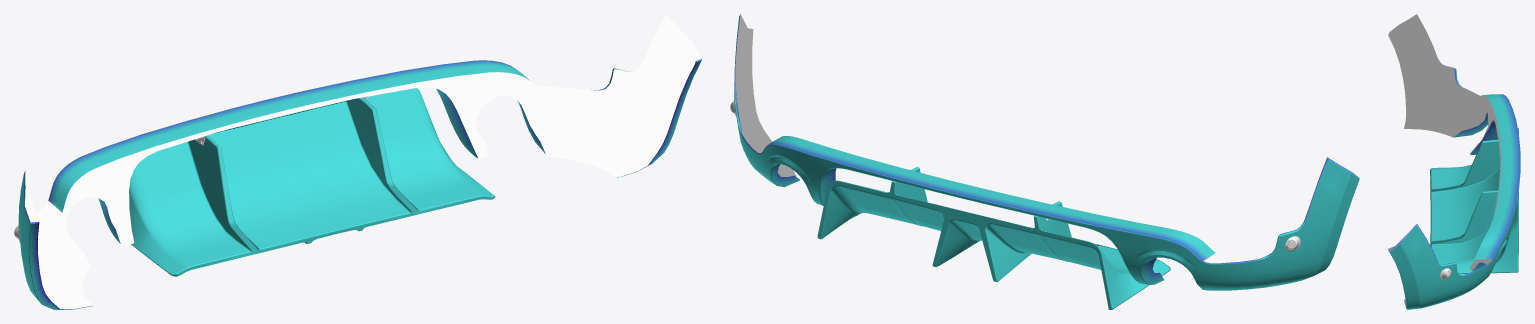
The model's file is Car_Mini_CountrymanJCW_2017_Diffuser_SetB_AltH.fbx.
The picture shows the model from 3 angles, left to right: view 1: azimuth 30°, elevation 25°; view 2: azimuth 150°, elevation 25°; view 3: azimuth 270°, elevation 25°; orthographic projection. The views are drawn at different scales.
Visible parts, largest first — view 1: Diffuser 6; view 2: Diffuser 6; view 3: Diffuser 6.
Part boxes in pixels (x1,y1,x2,y2): Diffuser 6: [14, 14, 701, 309]; Diffuser 6: [730, 14, 1359, 309]; Diffuser 6: [1388, 14, 1520, 309].
Size of the model in its own units: 1.74 by 0.3812 by 0.4437.
